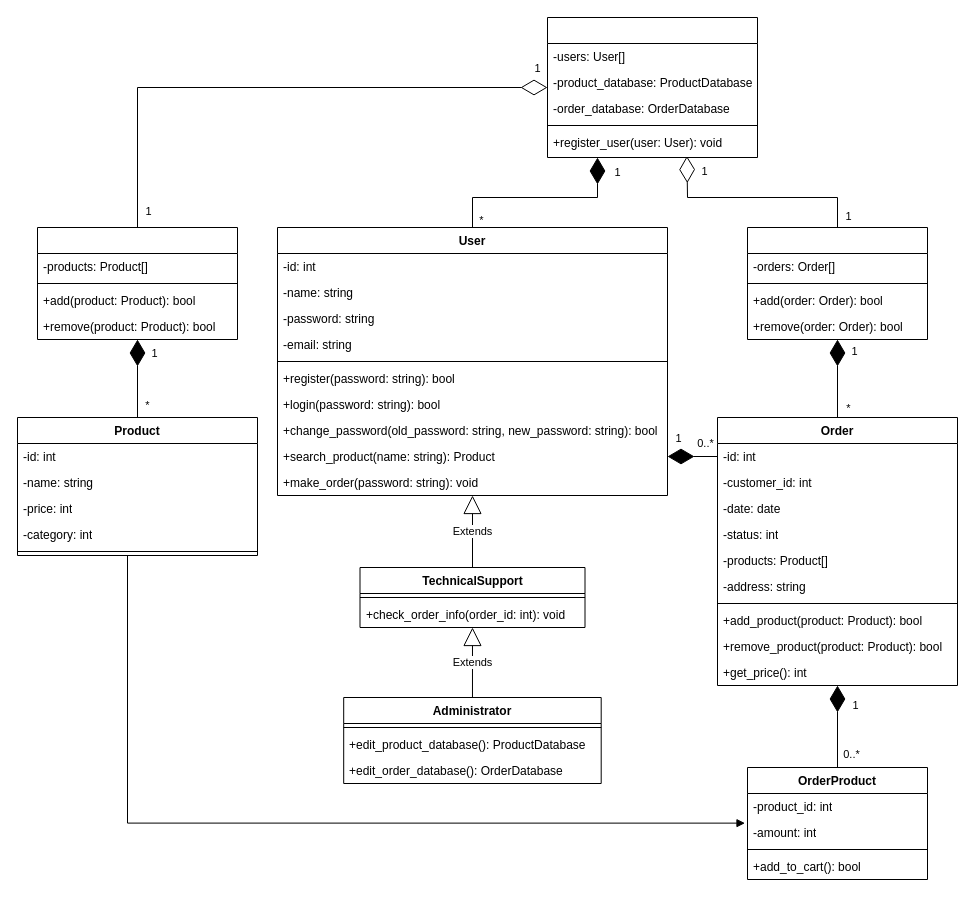
Some shapes in this 975 by 900 pixel diagram are drawn without their labels. The shapes that lost their labels are listed below. From the top down, each one's box as (x1, y1, x2, y2) in pixels, then its label:
(546, 16, 758, 158): System
(36, 226, 238, 340): ProductDatabase
(746, 226, 928, 340): OrderDatabase
